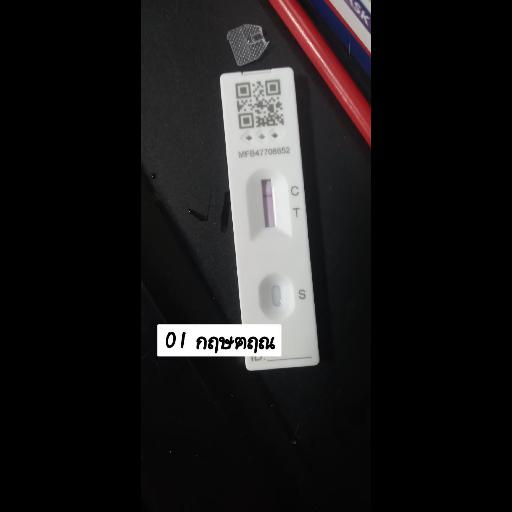Neg: (219, 68, 321, 372)
